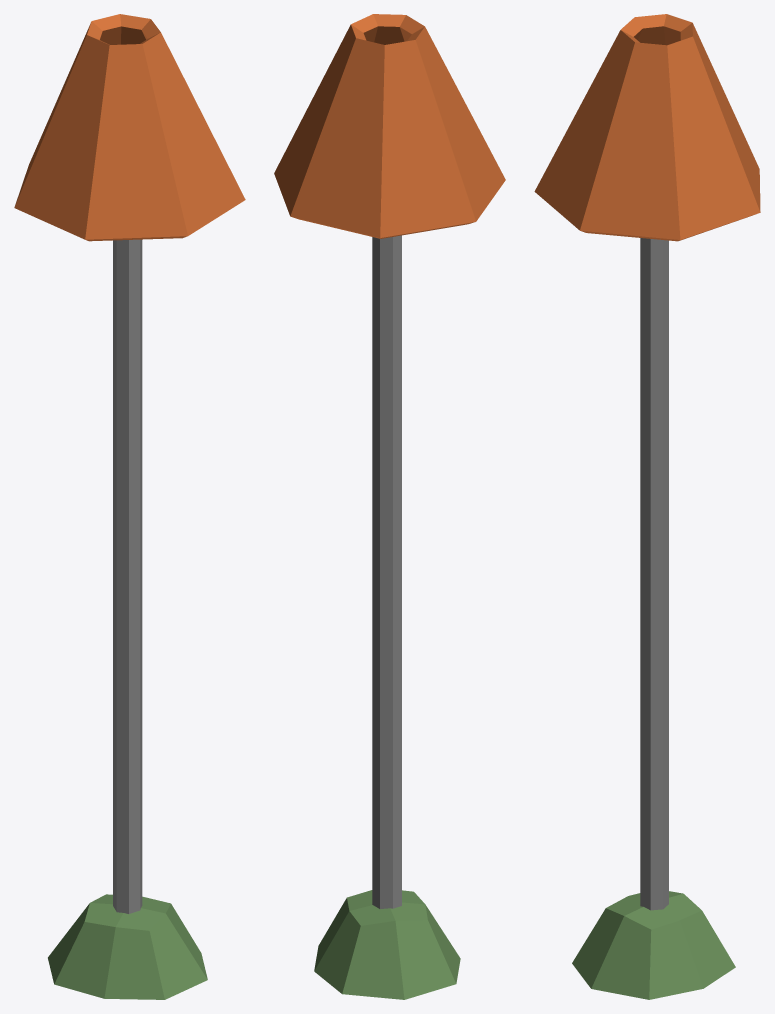
File: Lamp01.fbx
The picture shows the model from 3 angles, left to right: view 1: azimuth 30°, elevation 25°; view 2: azimuth 150°, elevation 25°; view 3: azimuth 270°, elevation 25°; orthographic projection.
Parts seen in each view (by area): view 1: Cube.002; view 2: Cube.002; view 3: Cube.002.
Part boxes in pixels (x1,y1,x2,y2): Cube.002: [14, 14, 245, 999]; Cube.002: [274, 14, 505, 999]; Cube.002: [534, 14, 760, 999].
Size of the model in its own units: 32.8 by 146 by 32.03.
